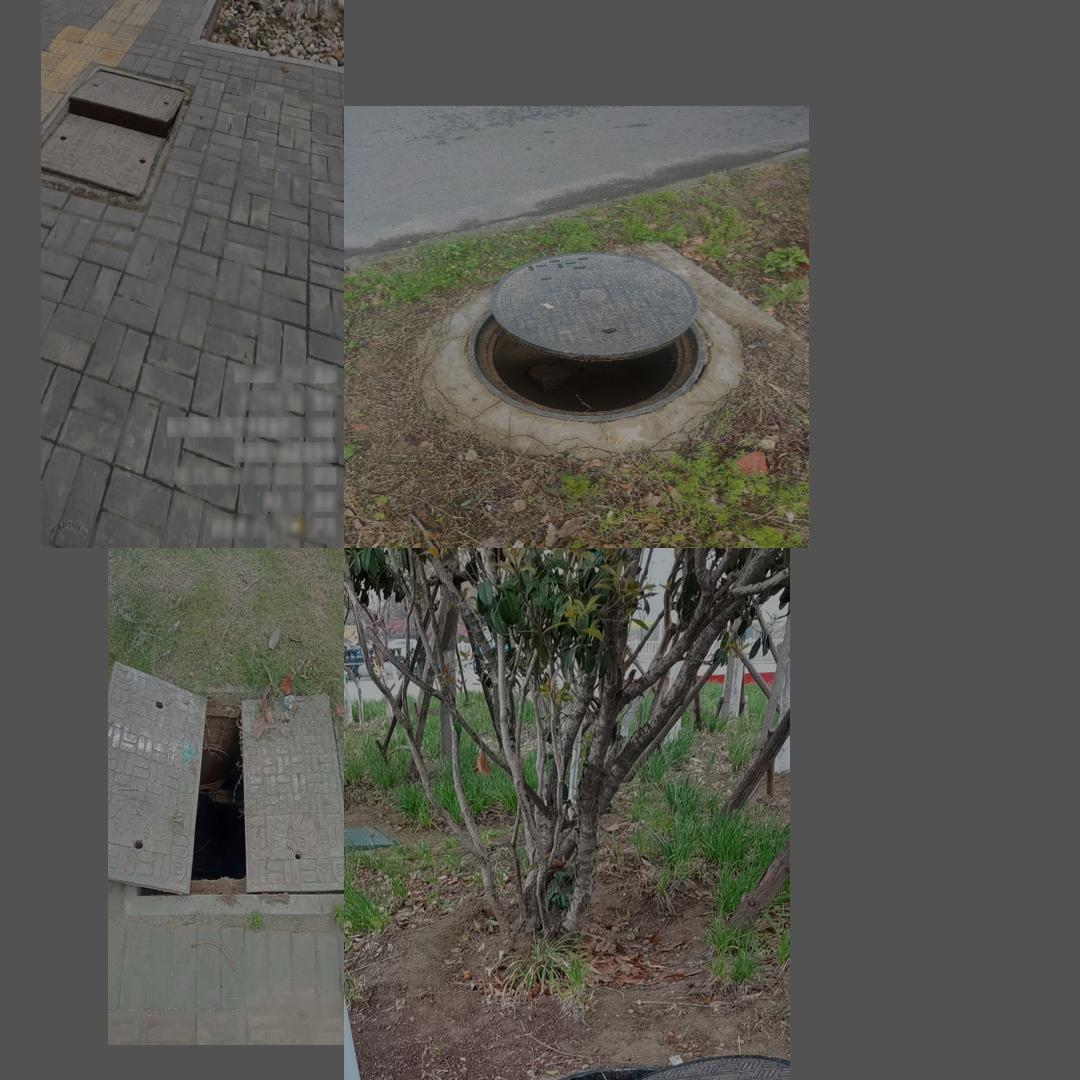uncovered: (108, 659, 340, 911), (456, 249, 710, 425), (41, 64, 195, 212), (491, 1052, 789, 1080)
